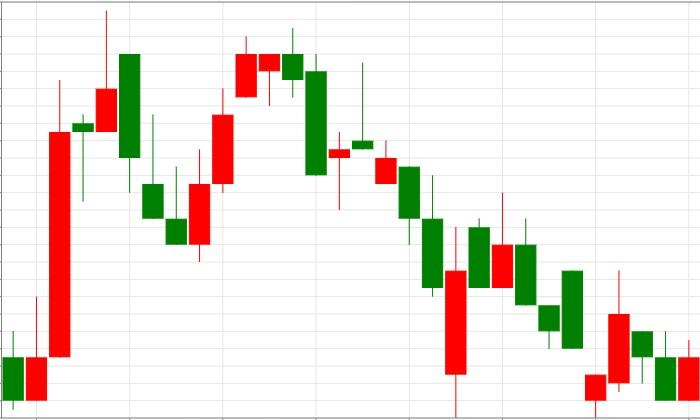bullish_engulfing_rise: (95, 11, 211, 262)
hanging_man_fall: (188, 36, 281, 263)
inverse_hammer_rise: (95, 11, 188, 245)
three_white_soldiers_rise: (95, 11, 258, 263)
